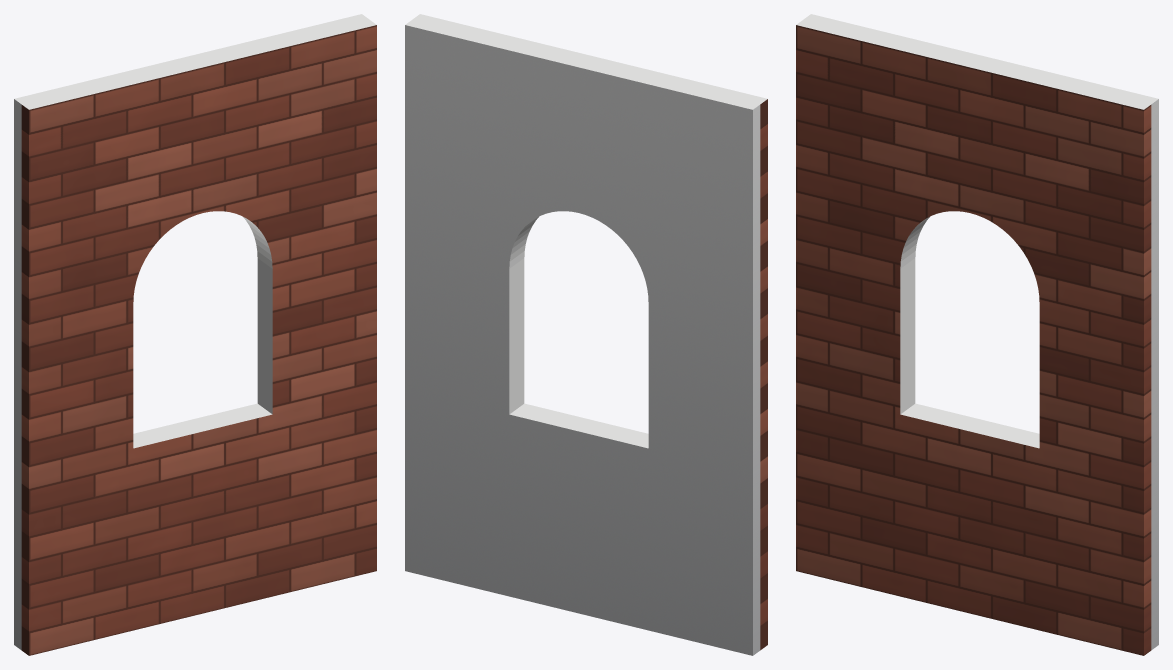
Rendered from janela_arco_2m.glb.
The picture shows the model from 3 angles, left to right: view 1: azimuth 30°, elevation 25°; view 2: azimuth 150°, elevation 25°; view 3: azimuth 330°, elevation 25°; orthographic projection.
Visible parts, largest first — view 1: janela_arco_2m; view 2: janela_arco_2m; view 3: janela_arco_2m.
Boxes of the visible parts, <box> form: janela_arco_2m: <box>14,14,376,655</box>; janela_arco_2m: <box>405,14,767,655</box>; janela_arco_2m: <box>796,14,1158,655</box>.
Bounding box in the file's own units: 2 × 3 × 0.15.
3 materials, 2 textured.
